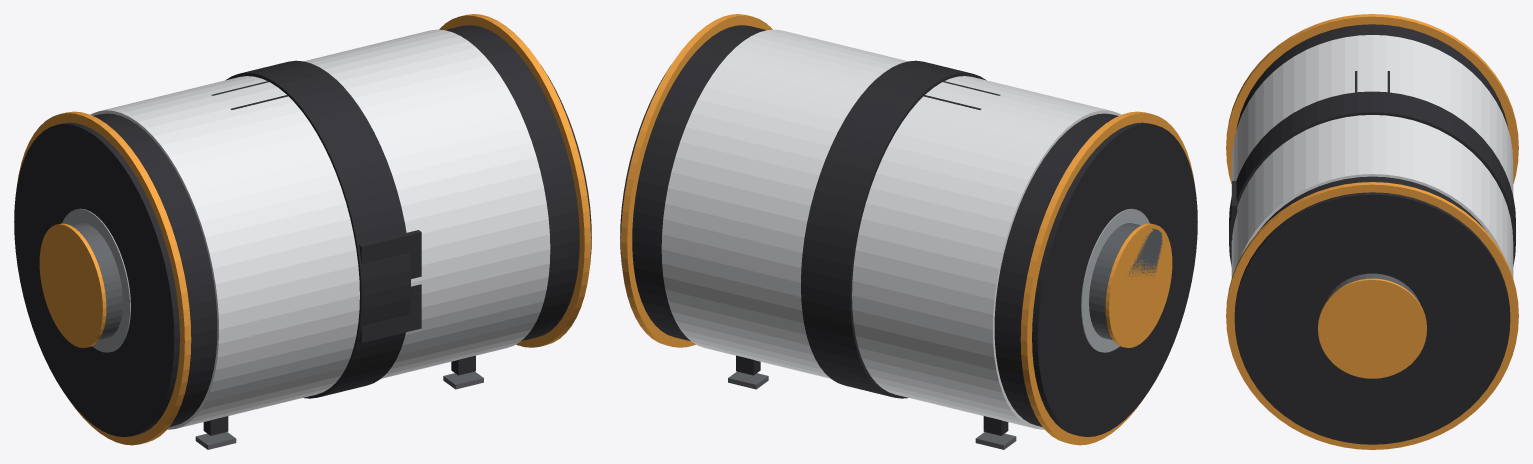
File: SM_HAB1_HabitatModule.glb
The picture shows the model from 3 angles, left to right: view 1: azimuth 30°, elevation 25°; view 2: azimuth 150°, elevation 25°; view 3: azimuth 270°, elevation 25°; orthographic projection. The views are drawn at different scales.
Visible parts, largest first — view 1: SM_HAB1_HabitatModule; view 2: SM_HAB1_HabitatModule; view 3: SM_HAB1_HabitatModule.
Part boxes in pixels (x1,y1,x2,y2): SM_HAB1_HabitatModule: [14, 14, 591, 449]; SM_HAB1_HabitatModule: [620, 14, 1197, 449]; SM_HAB1_HabitatModule: [1226, 14, 1518, 449].
Bounding box in the file's own units: 13.1 × 8.35 × 8.32.
